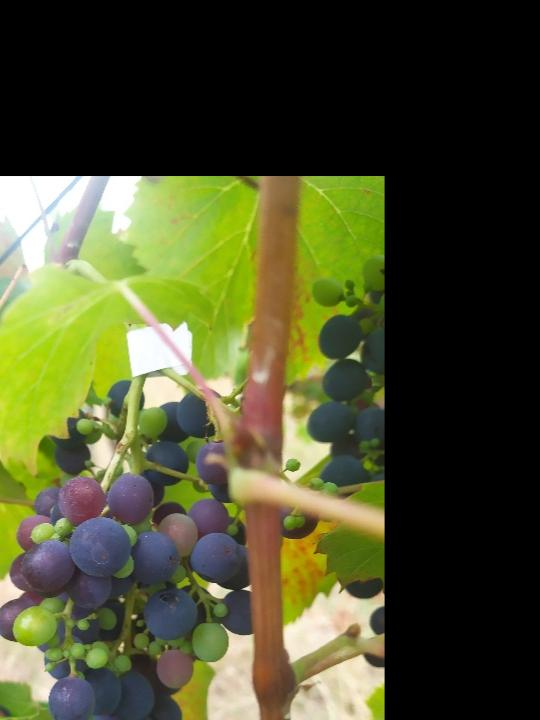grape: (0, 377, 254, 720)
